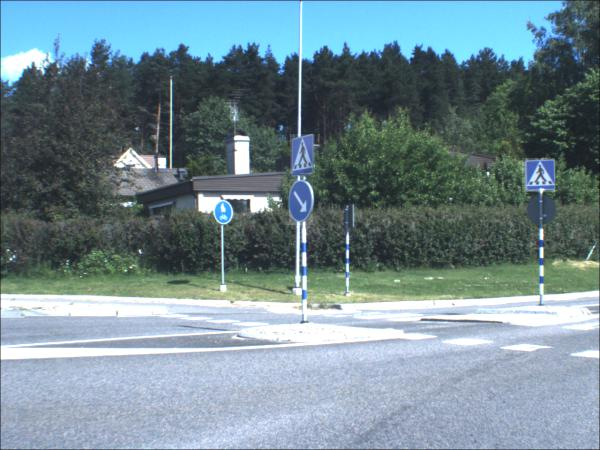PASS_RIGHT_SIDE: (290, 180, 315, 227)
PEDESTRIAN_CROSSING: (524, 159, 558, 194), (291, 135, 317, 176)
